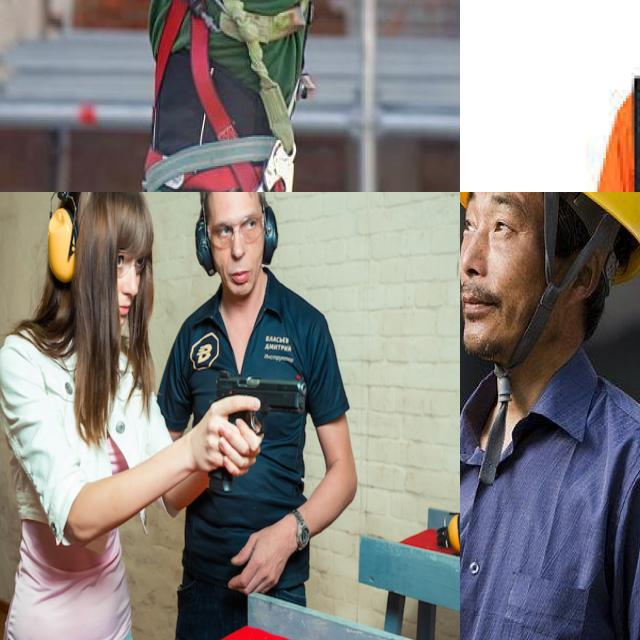Ear-protection: (42, 192, 153, 354), (192, 192, 280, 300)
Harness: (145, 0, 310, 192)
No_Ear-Protection: (552, 253, 604, 321)
No_Glasses: (460, 192, 531, 247)
face_nomask: (460, 230, 544, 361)
person: (159, 192, 357, 640), (0, 192, 168, 640)
